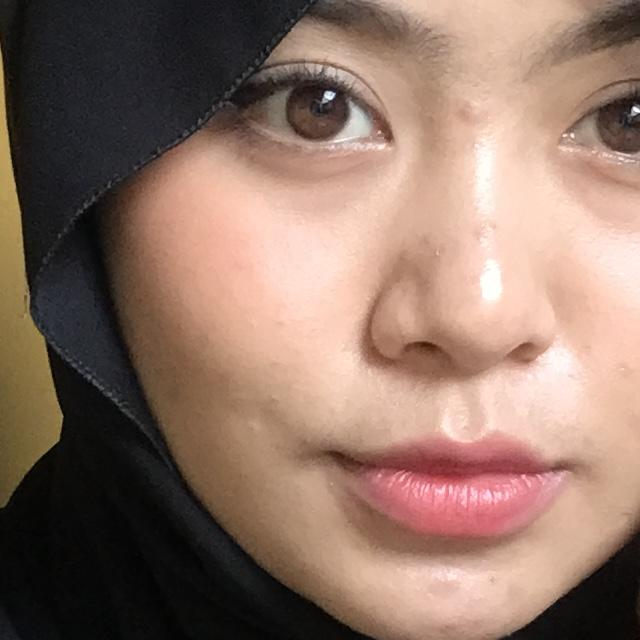telpon: (410, 36, 640, 640)
